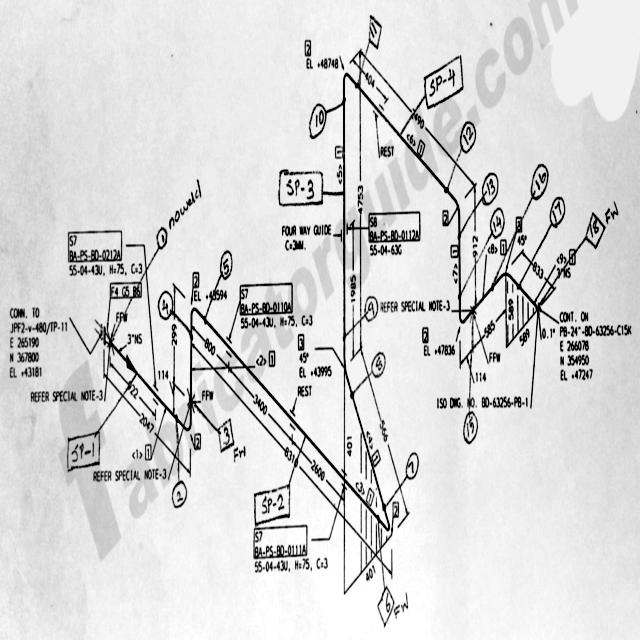Item number: (68, 228, 124, 262), (241, 281, 293, 310), (110, 280, 141, 300), (144, 443, 153, 461), (193, 431, 201, 451), (193, 270, 200, 289), (298, 331, 304, 352), (442, 209, 448, 228), (516, 215, 522, 233), (451, 245, 458, 258), (335, 145, 341, 160)
Measrement: (193, 342, 392, 577), (357, 46, 477, 190), (104, 363, 191, 479), (228, 364, 294, 444), (465, 300, 509, 367), (521, 244, 557, 294), (472, 184, 479, 308), (171, 288, 178, 393), (554, 250, 573, 281)
Pipeline: (175, 305, 397, 547)
Symbol: (443, 177, 465, 240), (340, 62, 360, 109), (458, 282, 477, 328), (95, 318, 114, 355)
Weld number: (532, 161, 549, 202), (482, 170, 499, 206), (460, 118, 477, 154), (550, 195, 567, 229), (157, 288, 173, 322), (490, 206, 506, 238), (405, 450, 420, 482), (172, 480, 188, 510), (372, 350, 386, 379)
other: (542, 304, 635, 382), (5, 302, 72, 379), (254, 522, 332, 573), (362, 297, 452, 331), (369, 212, 421, 256), (433, 395, 528, 411), (280, 224, 334, 252), (241, 309, 307, 329), (67, 263, 135, 276), (299, 364, 333, 380), (305, 57, 342, 71), (423, 343, 455, 358)
